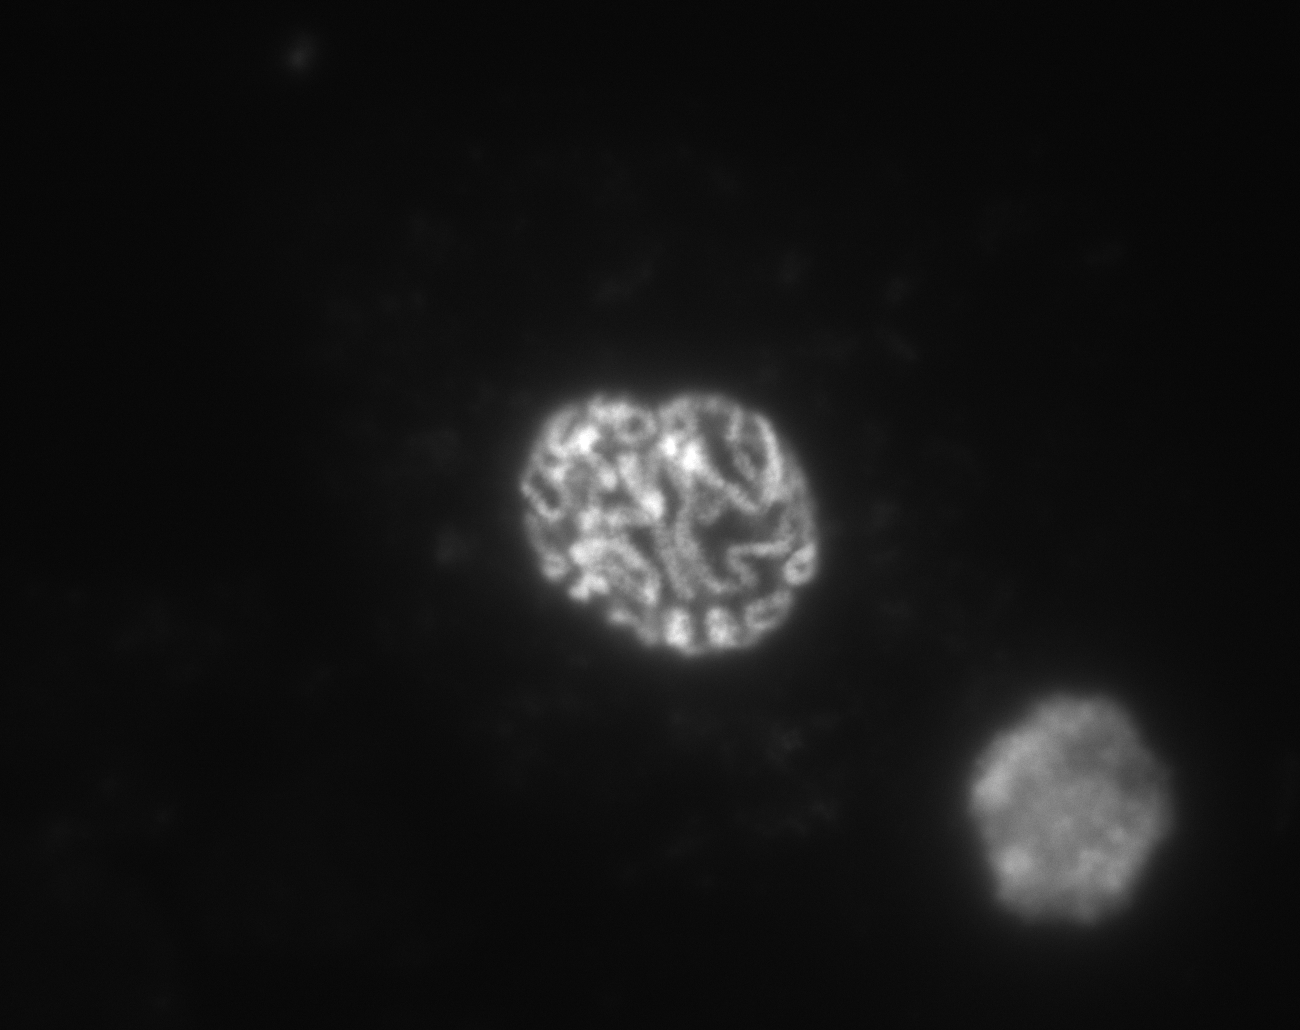Chromosomes: (470, 347, 867, 685)
Others: (913, 646, 1234, 968)
